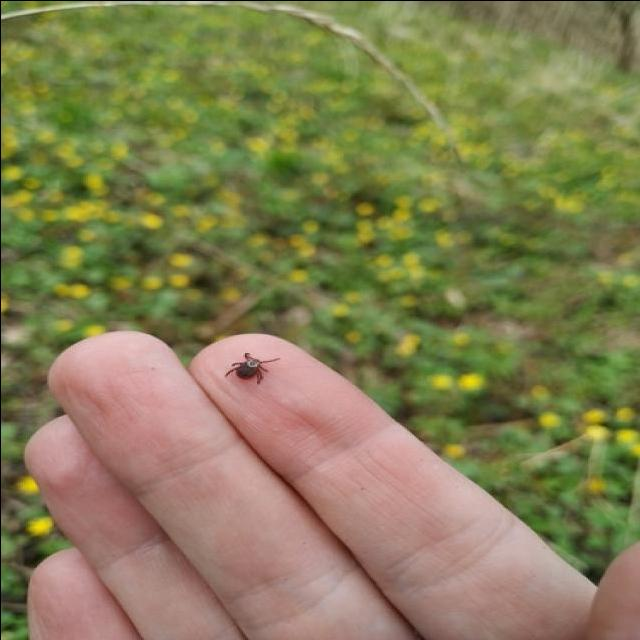Dermacentor Reticulatus-F: (222, 352, 280, 385)
